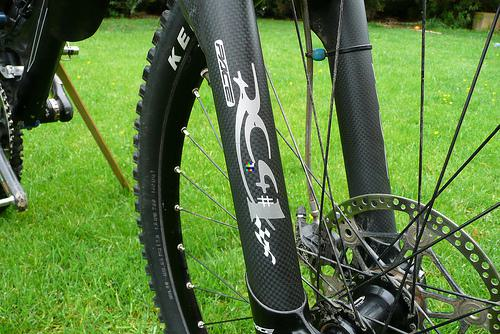car: (1, 1, 499, 334)
